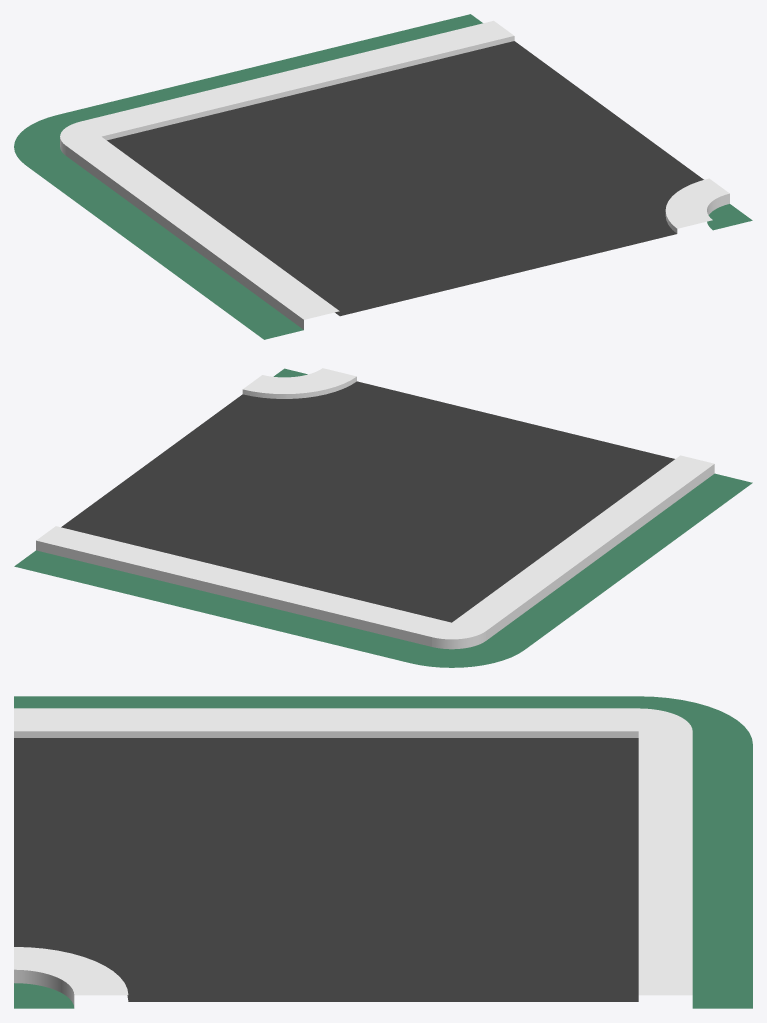
File: roadCornerSmallSquare.glb
3 renders of one model, top to bottom at view 1: azimuth 30°, elevation 25°; view 2: azimuth 150°, elevation 25°; view 3: azimuth 270°, elevation 25°, orthographic. The views are drawn at different scales.
Visible parts, largest first — view 1: roadCornerSmallSquare(Clone); view 2: roadCornerSmallSquare(Clone); view 3: roadCornerSmallSquare(Clone).
Boxes of the visible parts, x1=… form: roadCornerSmallSquare(Clone): x1=14, y1=14, x2=752, y2=339; roadCornerSmallSquare(Clone): x1=14, y1=368, x2=752, y2=667; roadCornerSmallSquare(Clone): x1=14, y1=696, x2=752, y2=1008.
Bounding box in the file's own units: 1 × 0.02 × 1.
